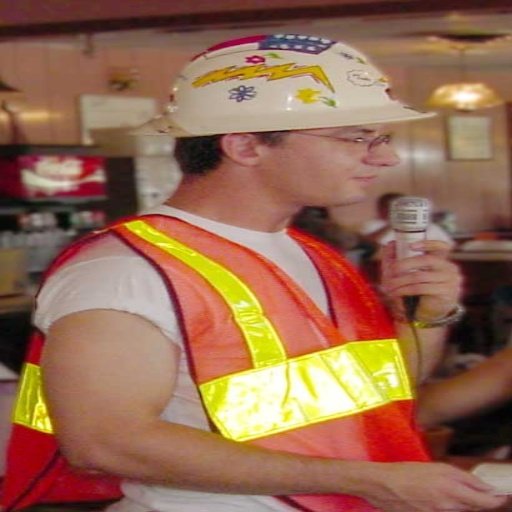hand: (355, 461, 508, 510), (373, 239, 474, 311)
